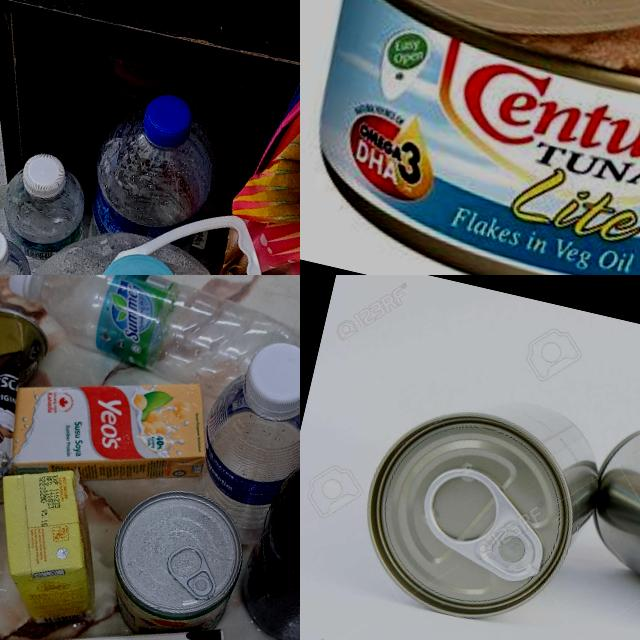aba de lata: (408, 458, 560, 588), (160, 540, 223, 602)
caixinha: (0, 343, 221, 513), (0, 454, 120, 636)
garrafa de vidro: (227, 359, 300, 640)
garrafa plástica: (0, 275, 300, 407), (80, 96, 228, 261), (180, 366, 300, 564), (0, 209, 267, 275), (0, 159, 92, 275)
lata: (300, 0, 640, 275), (350, 375, 608, 639), (93, 477, 256, 640), (564, 408, 640, 640), (0, 304, 52, 521)
tampa plástica: (240, 337, 300, 419), (139, 90, 197, 150), (87, 245, 184, 275), (18, 148, 70, 202), (8, 275, 42, 298), (0, 220, 13, 275)
